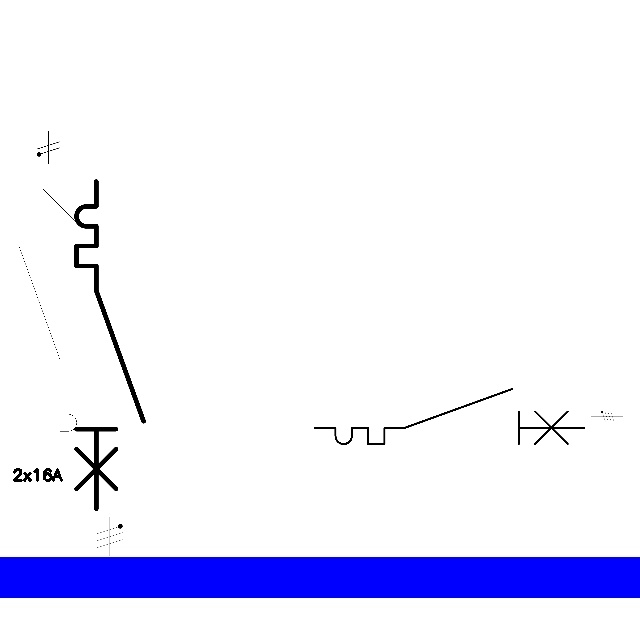interruptor_termomagnetico: (68, 173, 152, 517), (12, 164, 84, 460), (308, 382, 591, 451)
